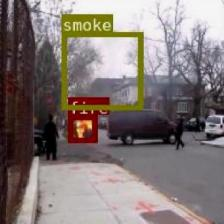fire: (67, 114, 96, 142)
smoke: (61, 30, 142, 109)
